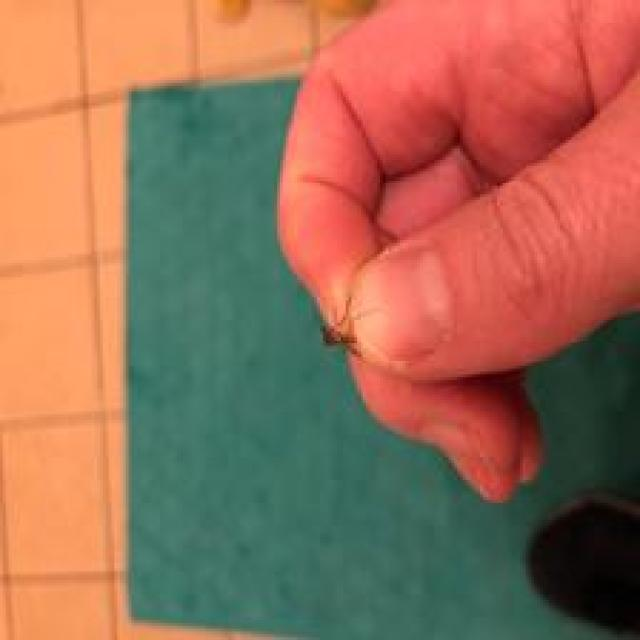Culex: (525, 485, 640, 640)
